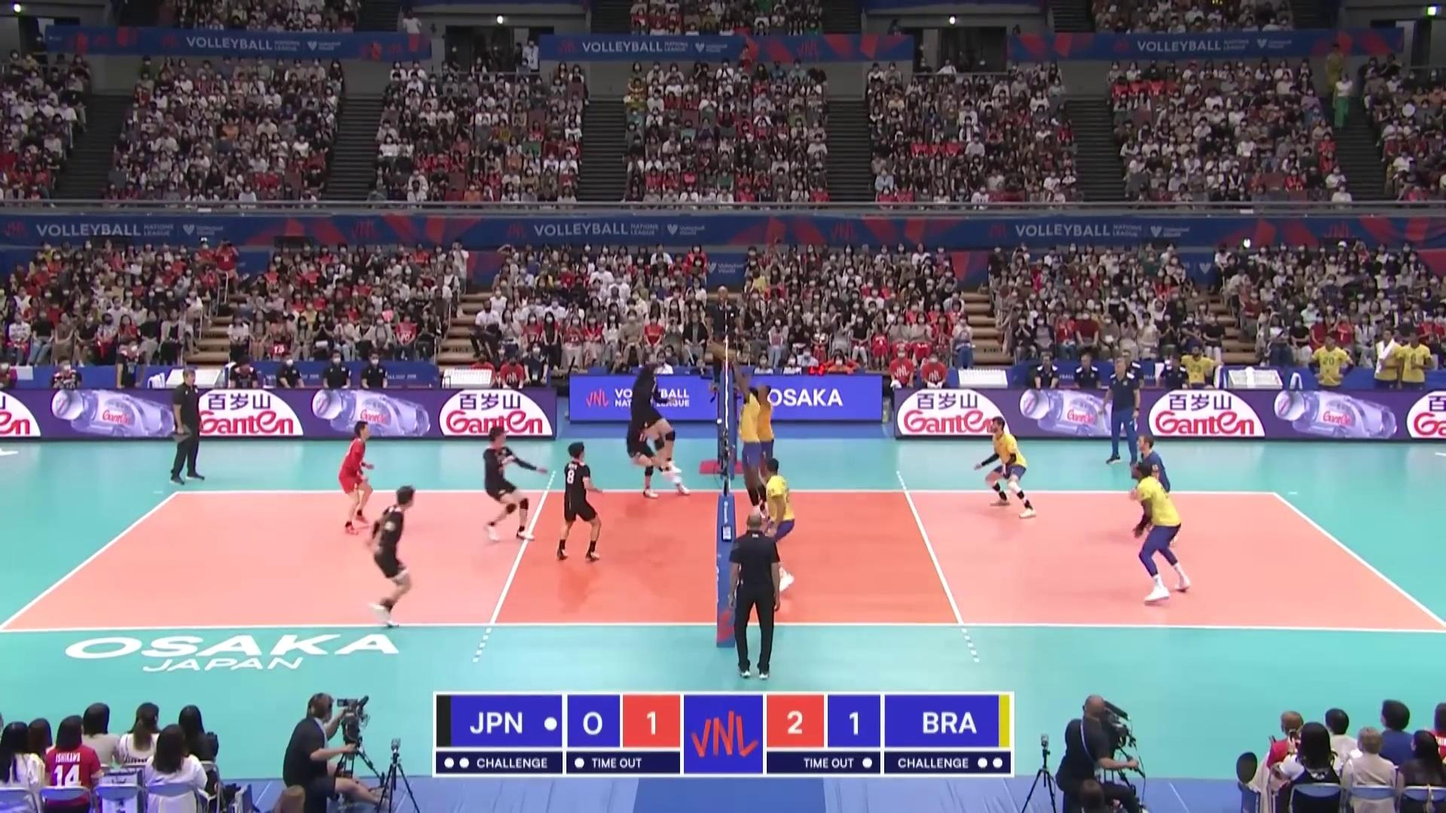player: (1131, 464, 1191, 604), (481, 426, 544, 543), (367, 487, 416, 629), (630, 352, 683, 482), (973, 418, 1038, 520), (557, 442, 610, 562), (626, 401, 689, 496), (756, 459, 798, 595), (1132, 434, 1178, 546), (737, 387, 771, 531), (337, 422, 374, 533), (750, 381, 778, 516)
refree: (728, 516, 778, 681), (709, 285, 742, 390)
